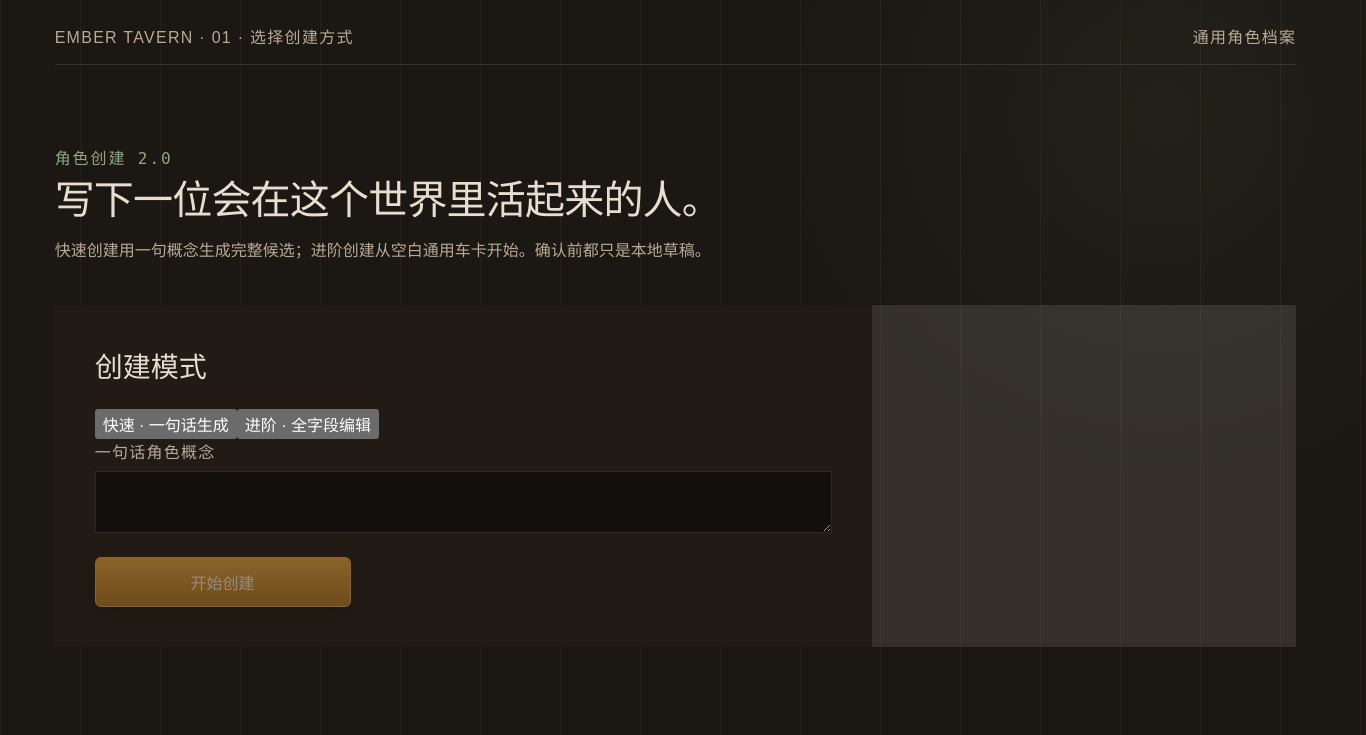
Scenario: Universal Character Creation page › starts Quick from one concept and exposes generation without writing formal facts
This screenshot has width=1366, height=735.
Expected: the heading "写下一位会在这个世界里活起来的人。" is shown, [55, 178, 721, 223]
In the text box labelled "一句话角色概念": (464, 502) [95, 471, 832, 533], type "追查失踪导师的落魄调查员"
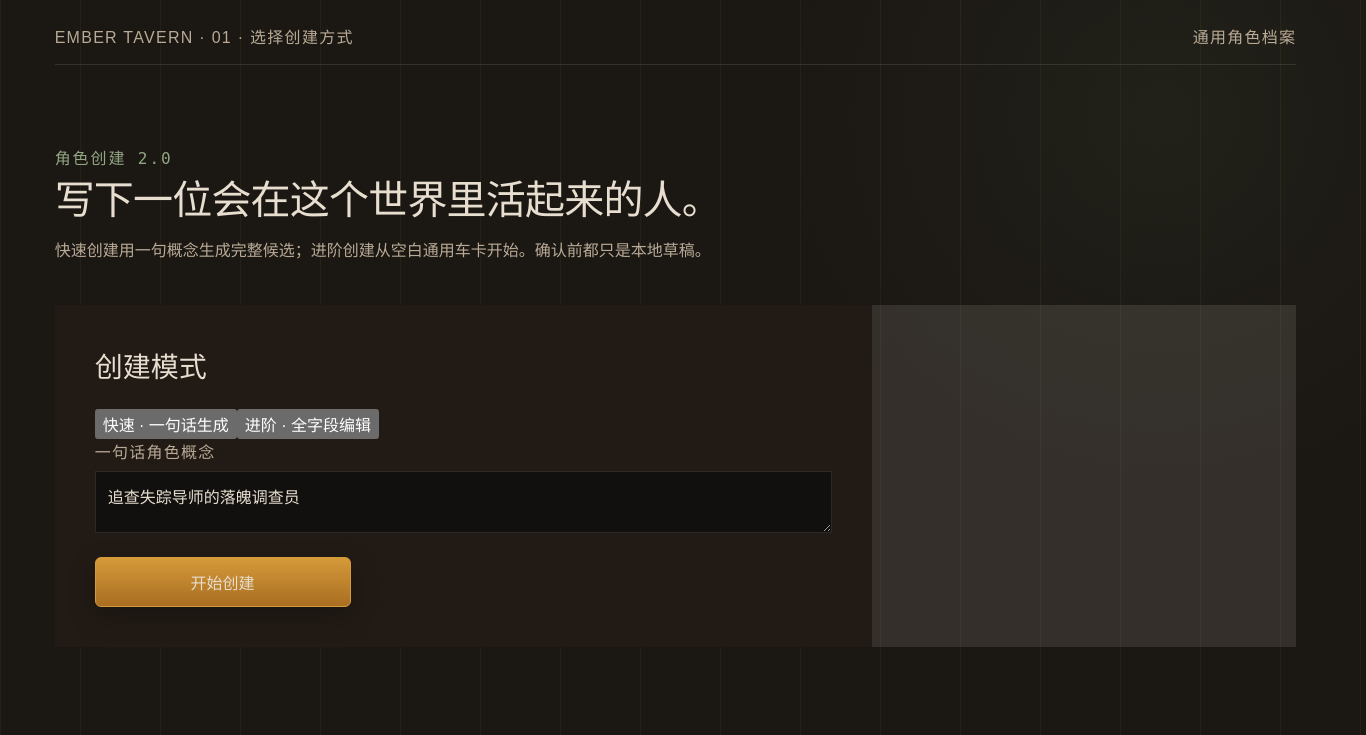
Click the button "开始创建": (223, 582) [95, 557, 351, 607]
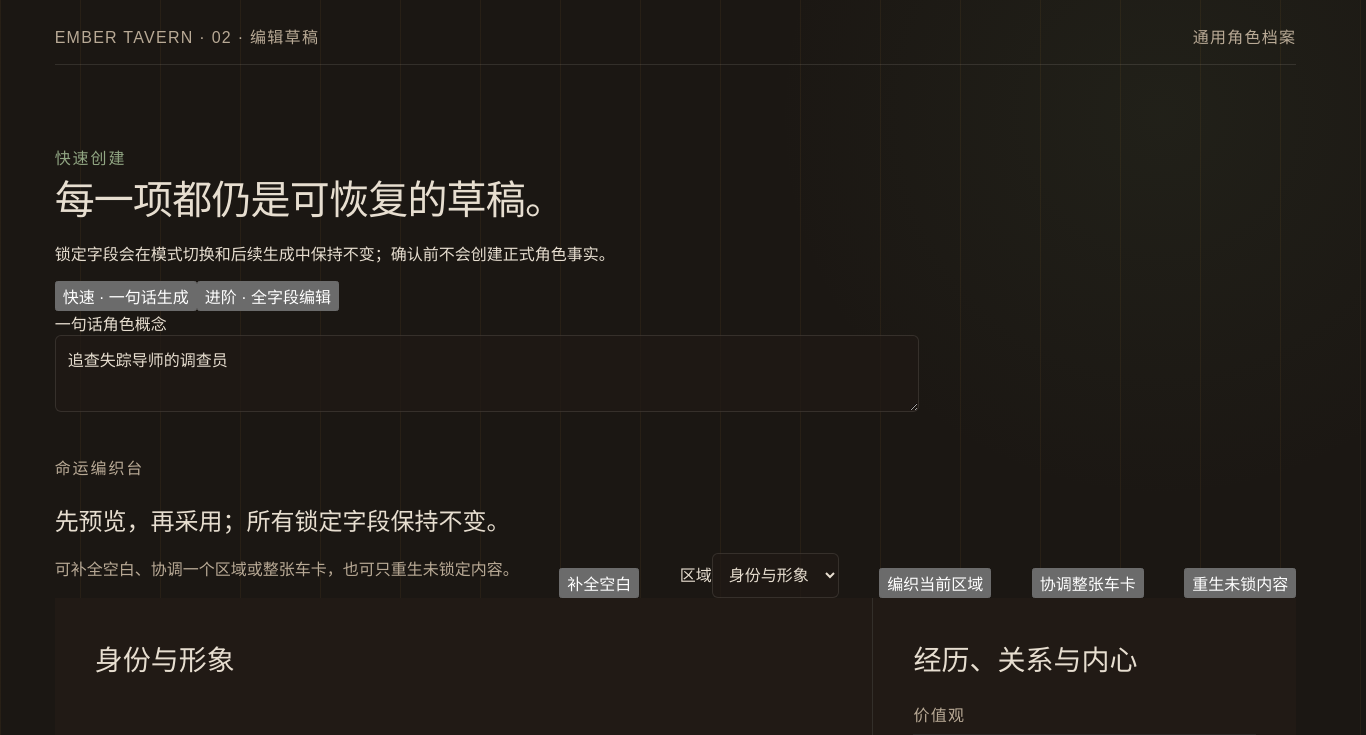
Expected: the text "锁定字段会在模式切换和后续生成中保持不变；确认前不会创建正式角色事实。" is shown, [55, 246, 615, 263]
